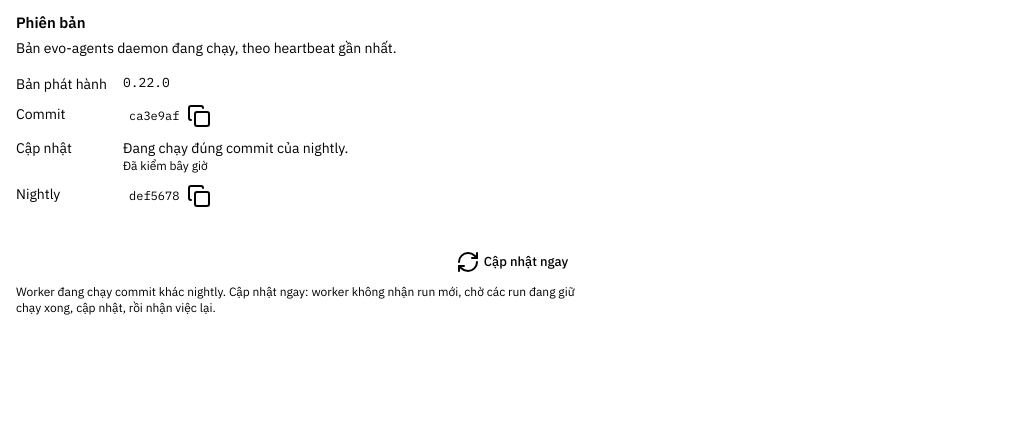
it: UpdateNow › keeps a 503 under the button, with its message and request id
Click the button "Cập nhật ngay" at (512, 262), box [16,248,1008,276]
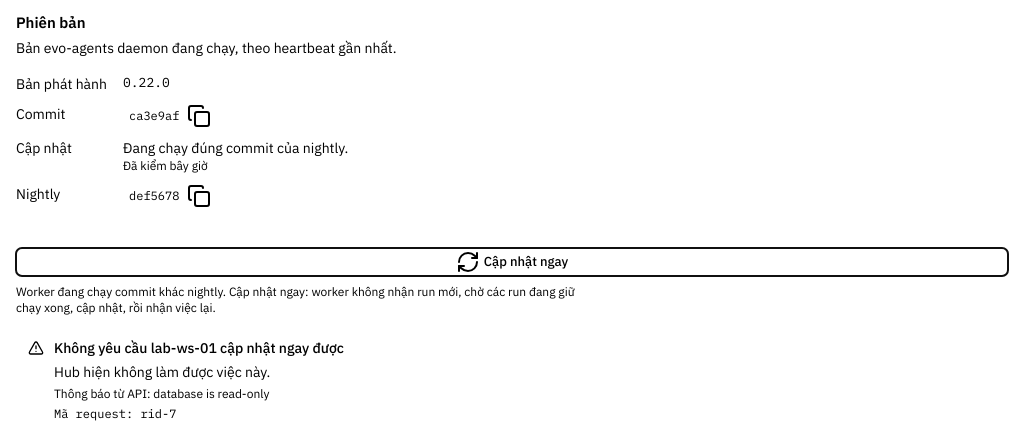
expect the message with test id "update-now-error" shows "Không yêu cầu lab-ws-01 cập nhật ngay được": met, box [54,339,344,357]
expect the message with test id "update-now-error" shows "database is read-only": met, box [54,386,270,401]
expect the message with test id "update-now-error" shows "rid-7": met, box [54,406,176,421]
